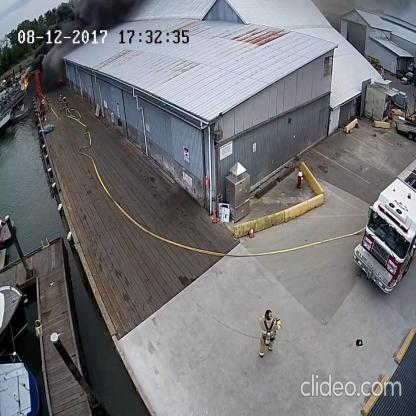fire: (21, 75, 36, 95)
